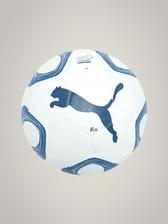other: (17, 46, 152, 177)
